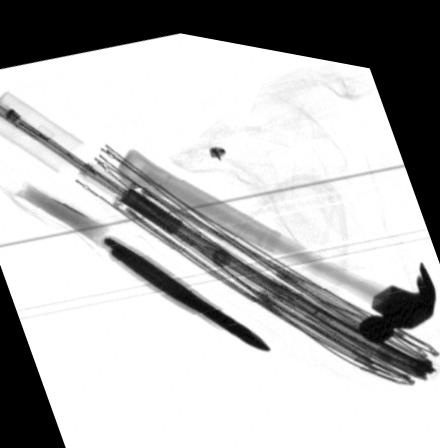Hammer: (114, 143, 438, 329)
Pliers: (99, 228, 270, 341)
